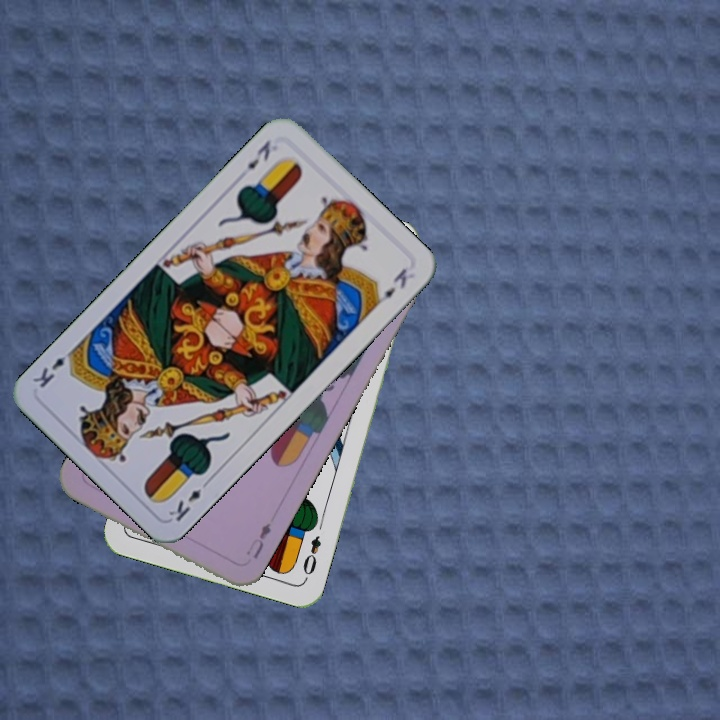EK: (164, 475, 213, 524), (243, 136, 274, 172)
EO: (298, 531, 324, 583)
EU: (244, 518, 274, 562)
